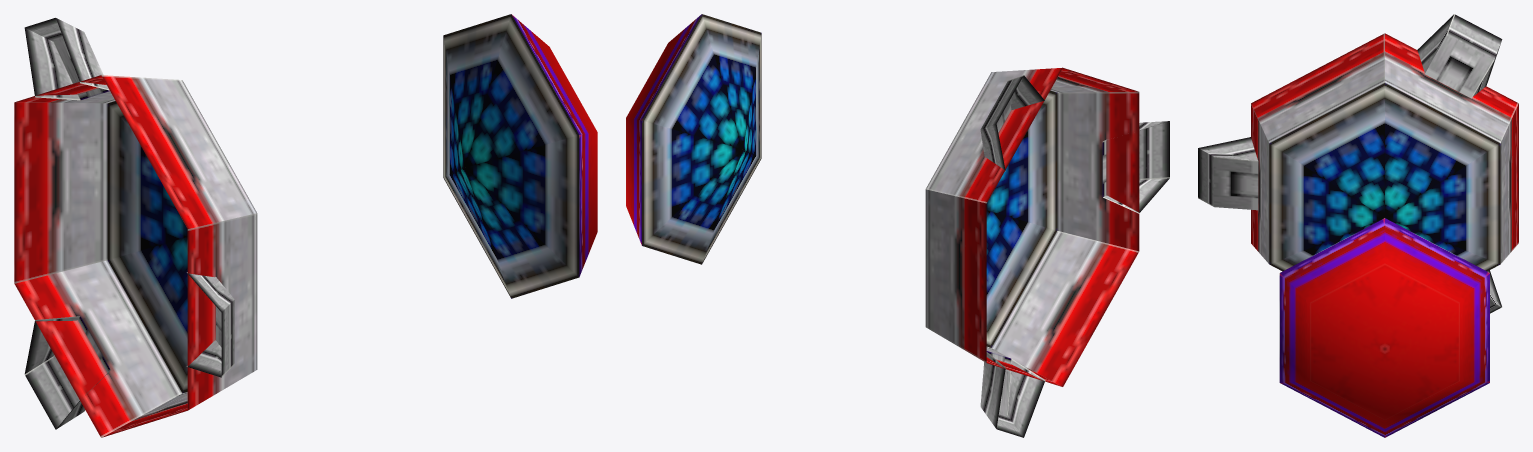
File: ItemBoxBase.obj
3 renders of one model, left to right at view 1: azimuth 30°, elevation 25°; view 2: azimuth 150°, elevation 25°; view 3: azimuth 270°, elevation 25°, orthographic. The views are drawn at different scales.
Bounding box in the file's own units: 15.02 × 12.67 × 11.56.
Materials: 1 (1 with a texture image).
